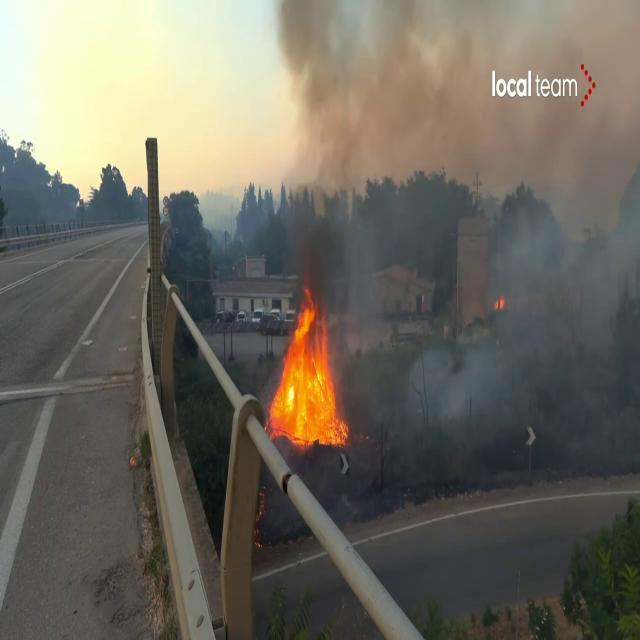Fire: (270, 284, 349, 446)
Smoke: (332, 149, 640, 435), (273, 1, 639, 194)
